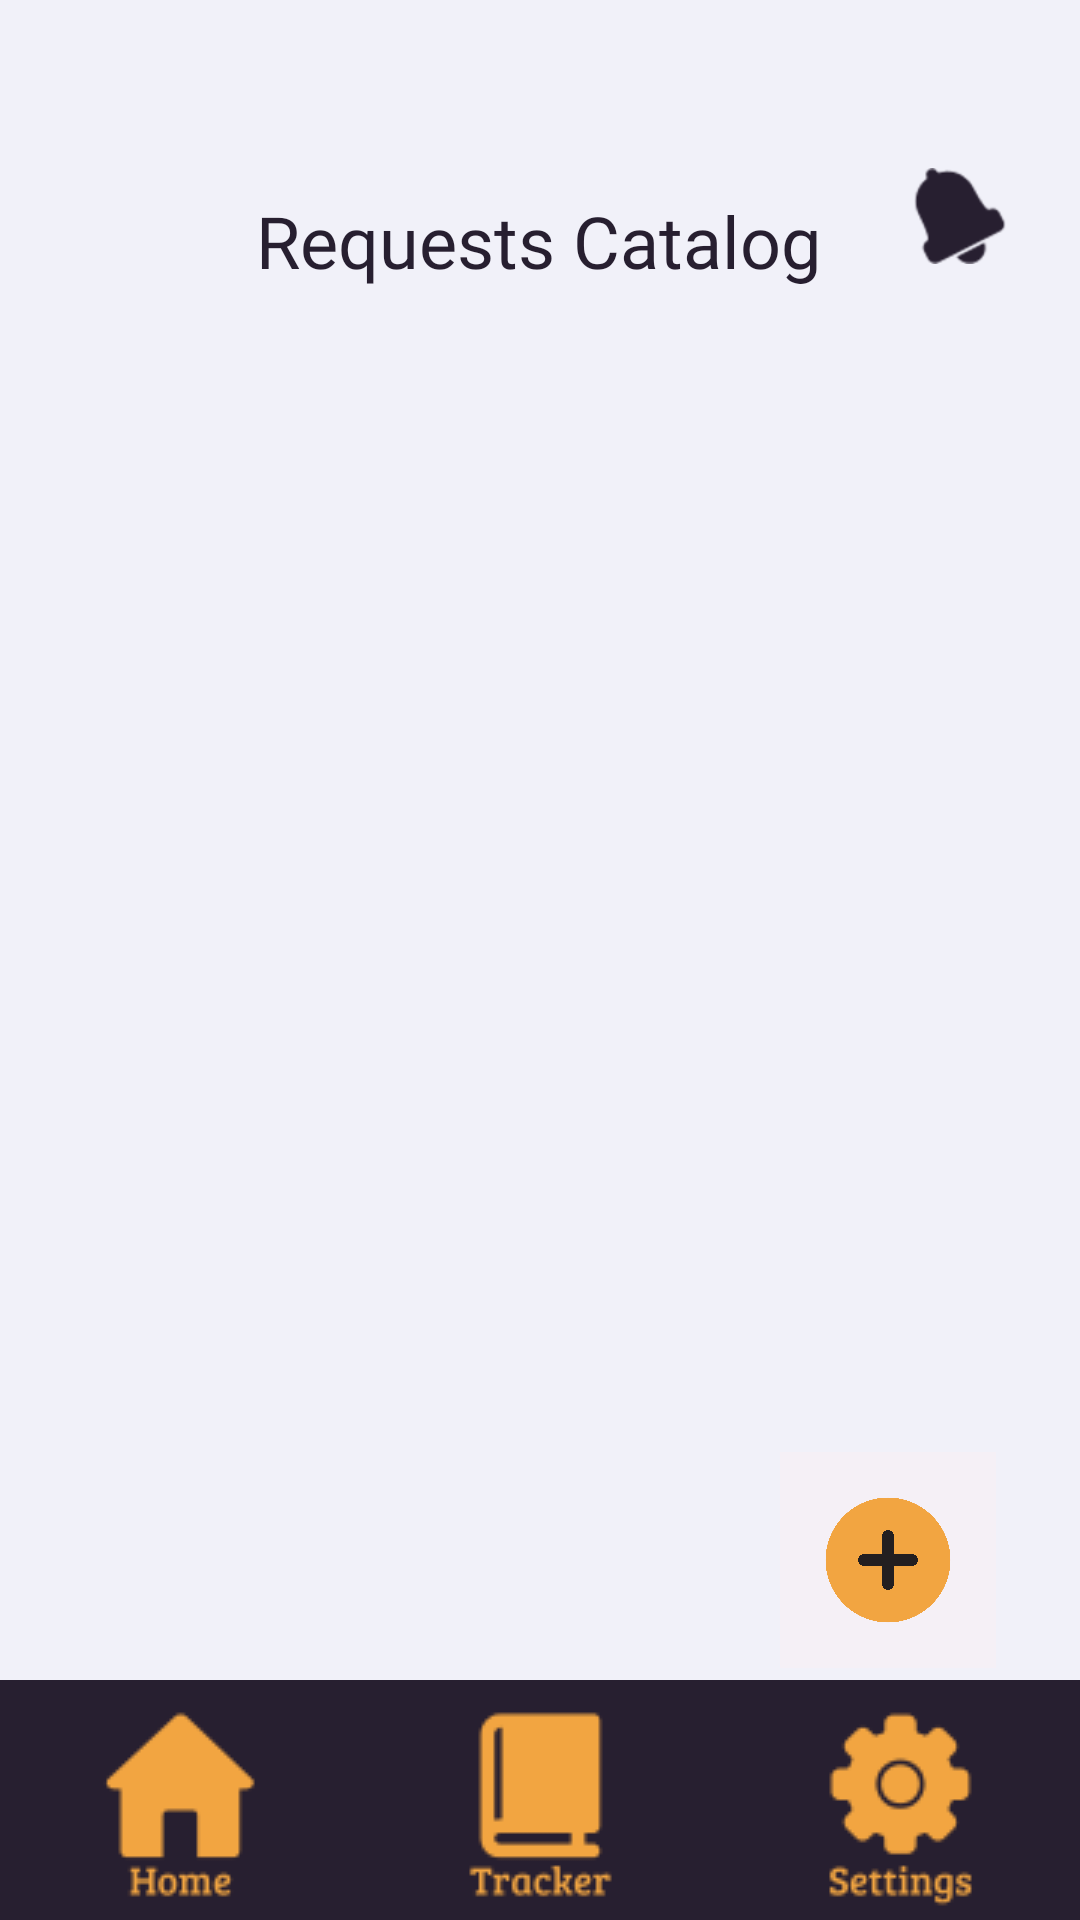

Named icons in this screenshot (1080w x 1920h) and their bounding boxes, (left=x1, top=y1, right=x2, bottom=y2):
Add new request: (left=826, top=1498, right=950, bottom=1622)
Notifications: (left=915, top=168, right=1005, bottom=264)
